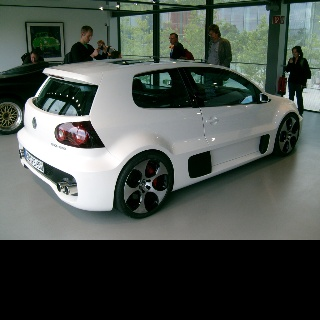without_mask: (83, 31, 93, 42), (208, 30, 216, 40), (169, 35, 176, 45), (31, 54, 37, 62), (291, 49, 297, 57)
